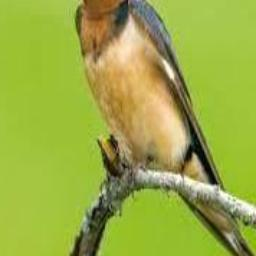Swallow: (75, 0, 256, 256)
